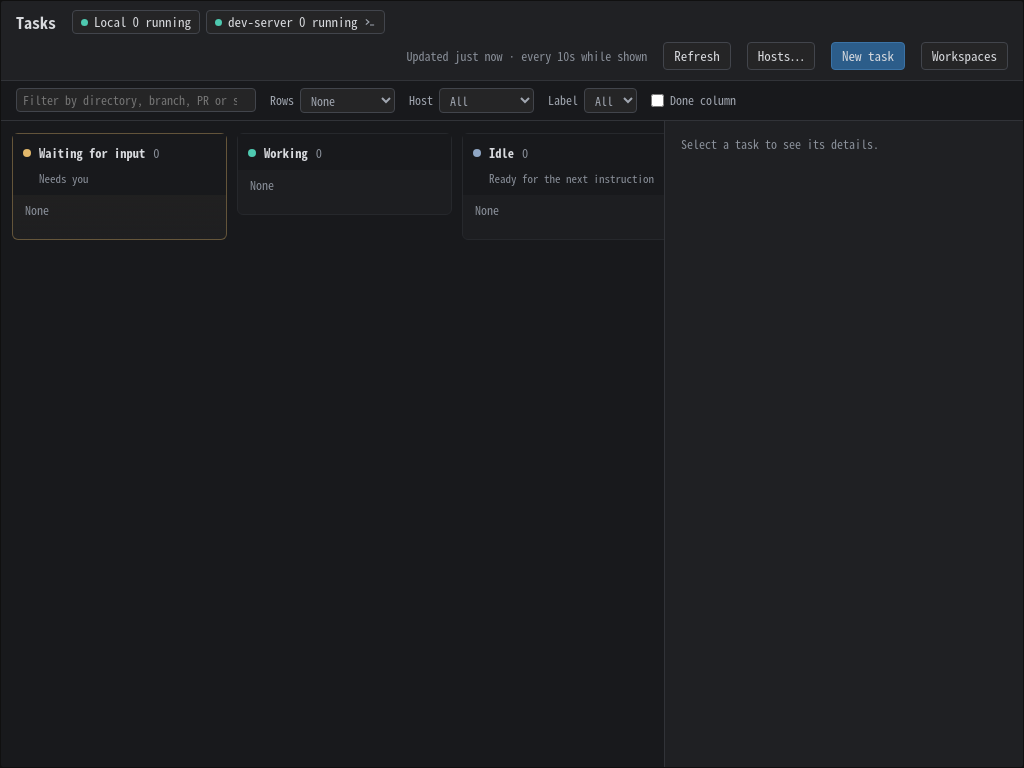
Test case: TaskDashboard tool-list wiring › keeps the absent-tool presentation for host
Click the button with aria-label "Codex input notifications on Local". click: (136, 22)
box: [72, 10, 200, 34]
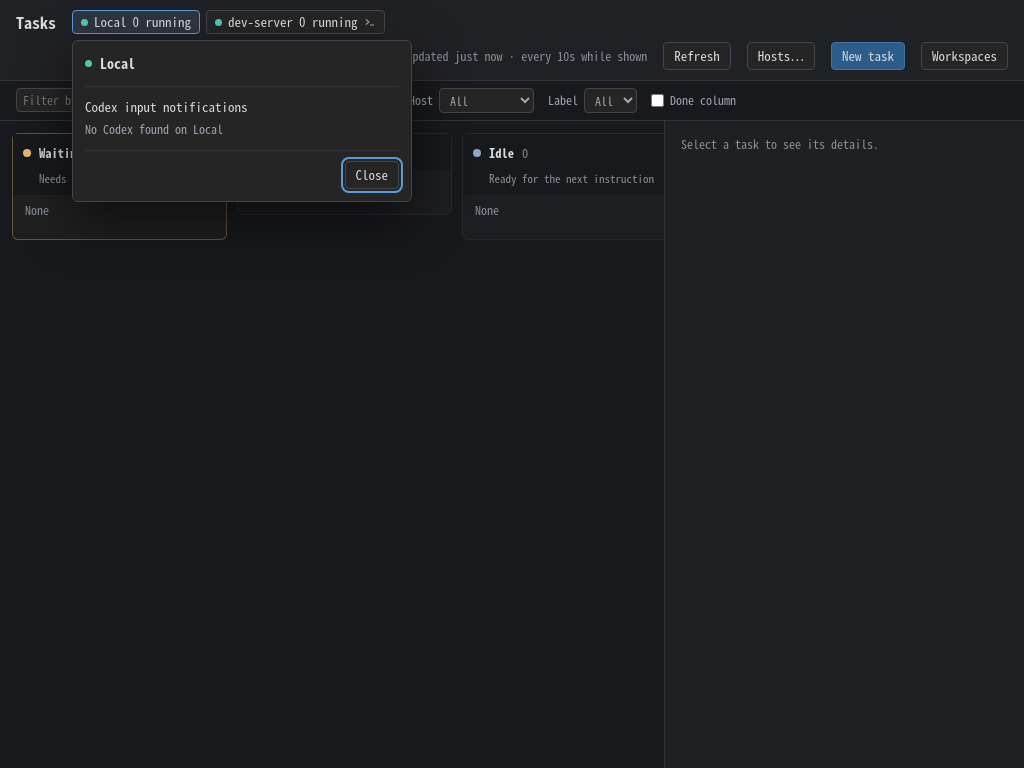
Now the text "No Codex found on Local" is shown, box [85, 120, 223, 137]
